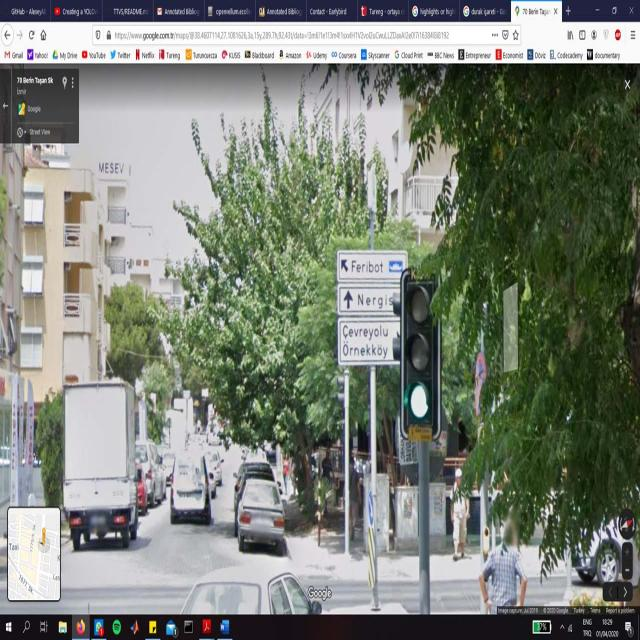yesil: (402, 273, 439, 435)
